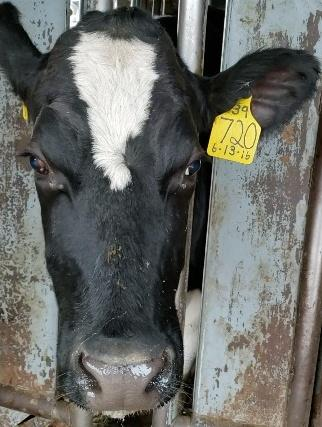muzzles: (53, 339, 189, 417)
